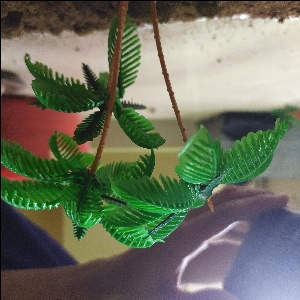plant: (9, 27, 267, 244)
